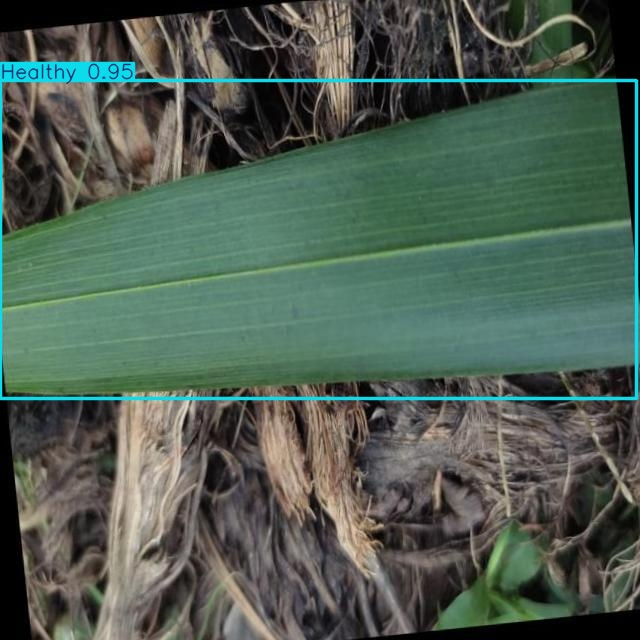Healthy: (0, 80, 637, 398)
